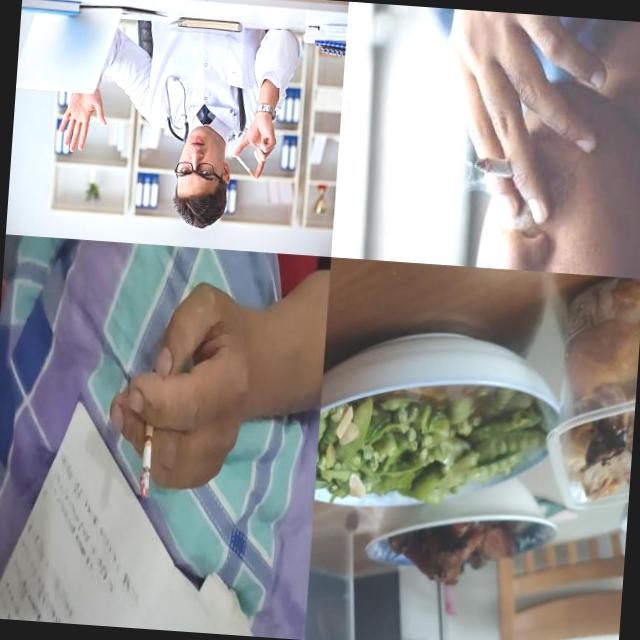cigarette: (138, 403, 156, 500), (473, 156, 536, 179), (233, 155, 259, 180)
